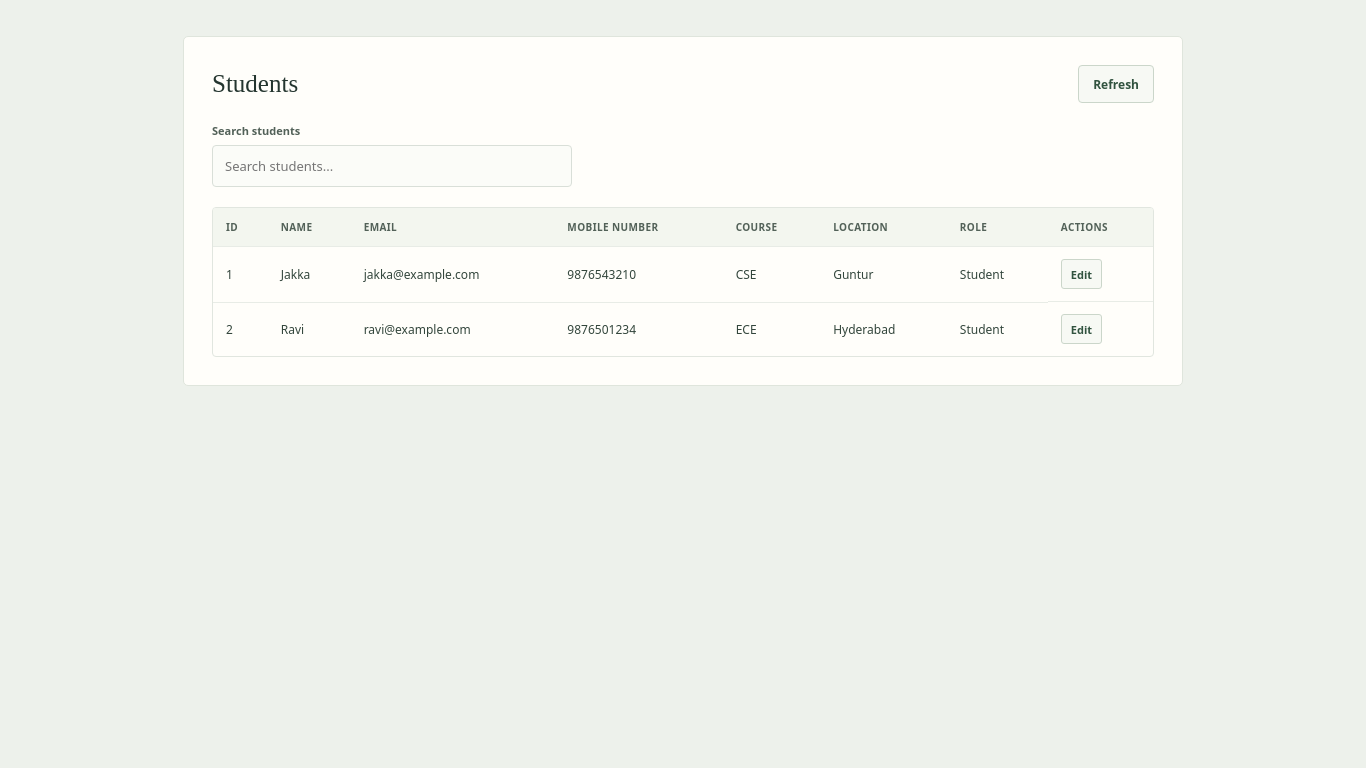
Test: StudentsTable › closes the edit form with the close button
Expected: the text "Jakka" is shown, [268,246,351,302]
Click the button "Edit" in the row of "jakka@example.com" at (1081,274), box [1061,259,1102,289]
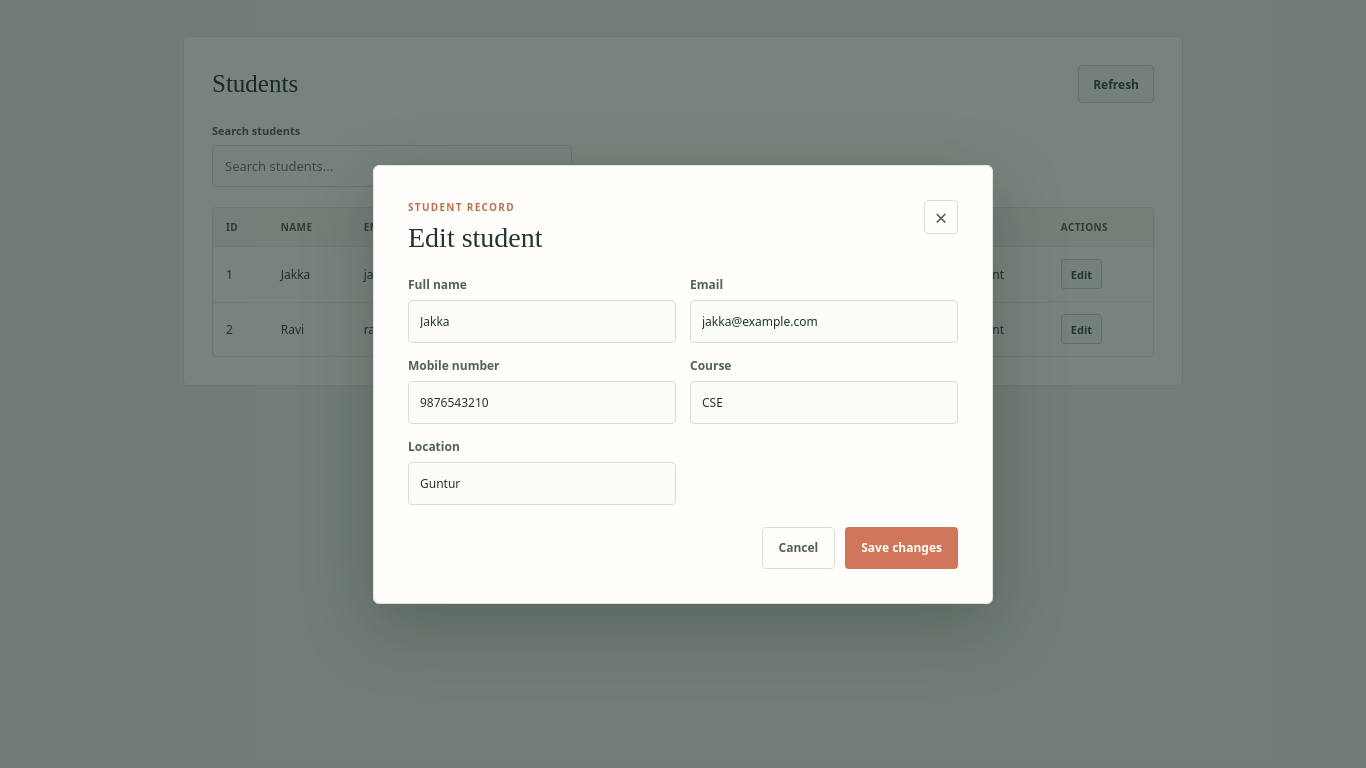
Click the button named "Close edit form" at (941,216), box [924,200,958,234]
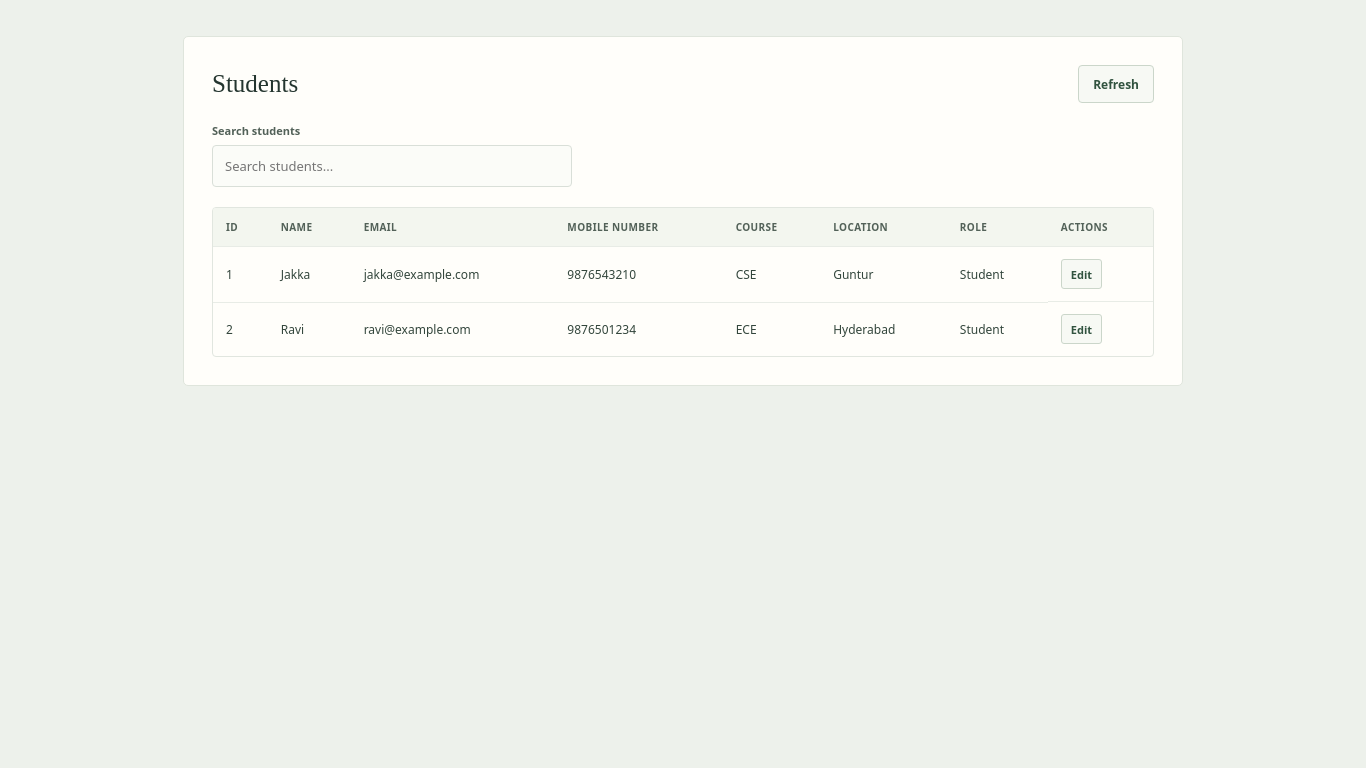
Expected: the heading "Edit student" is gone
